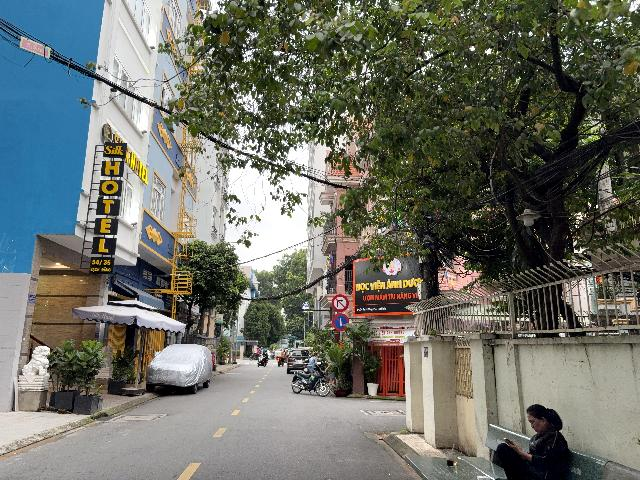cam-do-xe-ngay-le: (332, 313, 350, 332)
cam-re-phai: (331, 294, 349, 312)
